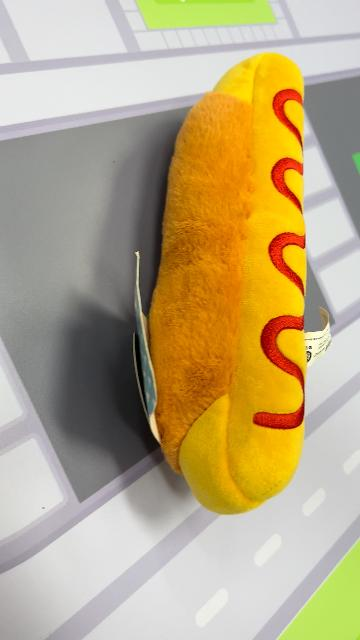hotdog: (148, 49, 310, 514)
